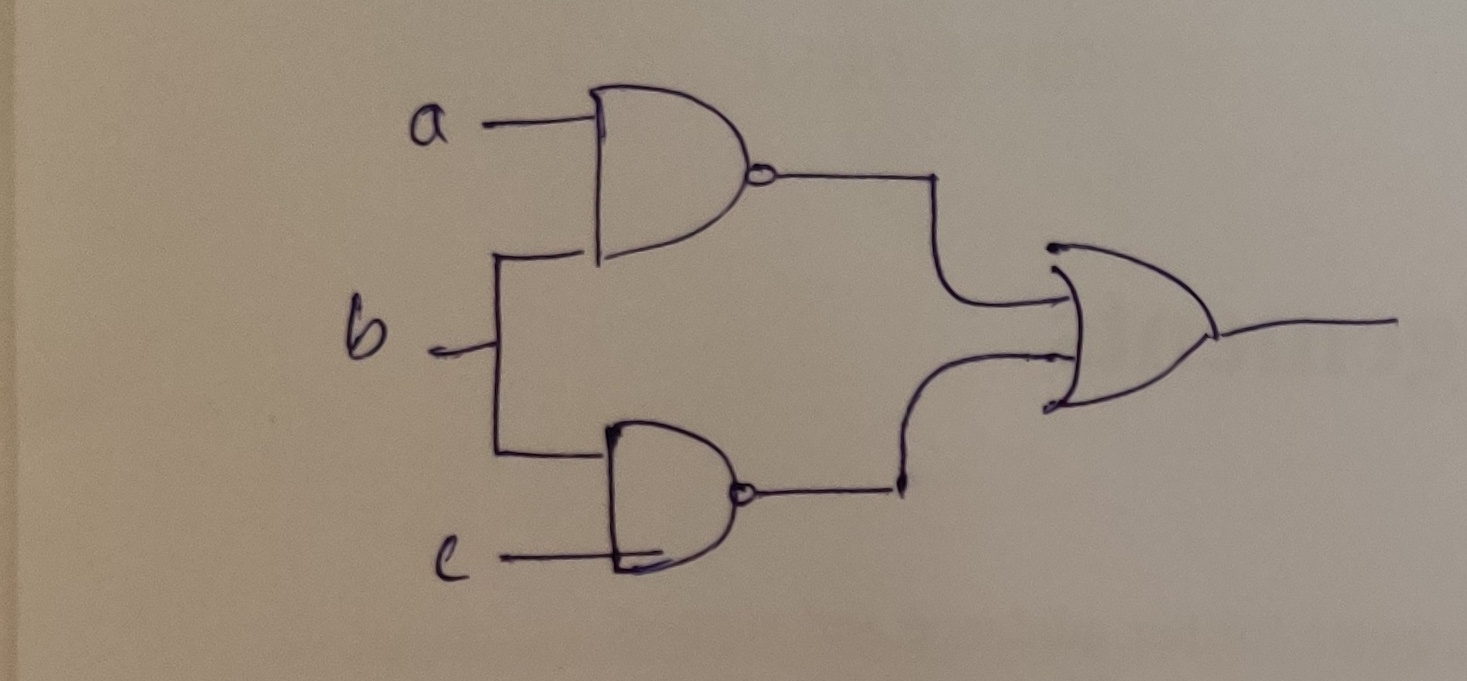nand: (559, 58, 810, 302), (562, 395, 807, 608)
or: (1005, 217, 1250, 438)
